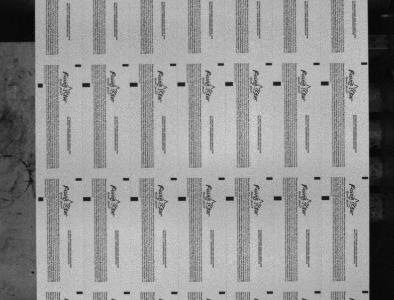backgroundclutter: (31, 271, 35, 274)
qblock: (130, 196, 139, 201), (226, 196, 235, 201), (273, 81, 282, 86), (178, 196, 186, 201), (322, 195, 330, 200), (130, 82, 138, 87), (177, 82, 186, 86), (225, 82, 234, 86), (274, 196, 282, 200), (83, 197, 91, 201), (82, 83, 90, 87), (321, 81, 329, 85), (37, 83, 43, 88), (38, 197, 43, 201)
smallqblock: (123, 177, 130, 181), (122, 64, 129, 67), (218, 63, 225, 66), (266, 177, 273, 180), (171, 177, 178, 180), (218, 177, 225, 180), (170, 63, 177, 66), (75, 178, 82, 181), (314, 177, 321, 180), (267, 291, 274, 294), (171, 291, 178, 294), (219, 291, 226, 294), (76, 291, 83, 294), (361, 62, 368, 65), (315, 290, 322, 293), (362, 176, 369, 179), (362, 290, 369, 293), (75, 64, 81, 67), (314, 62, 320, 65), (266, 62, 272, 65), (124, 291, 130, 294)
